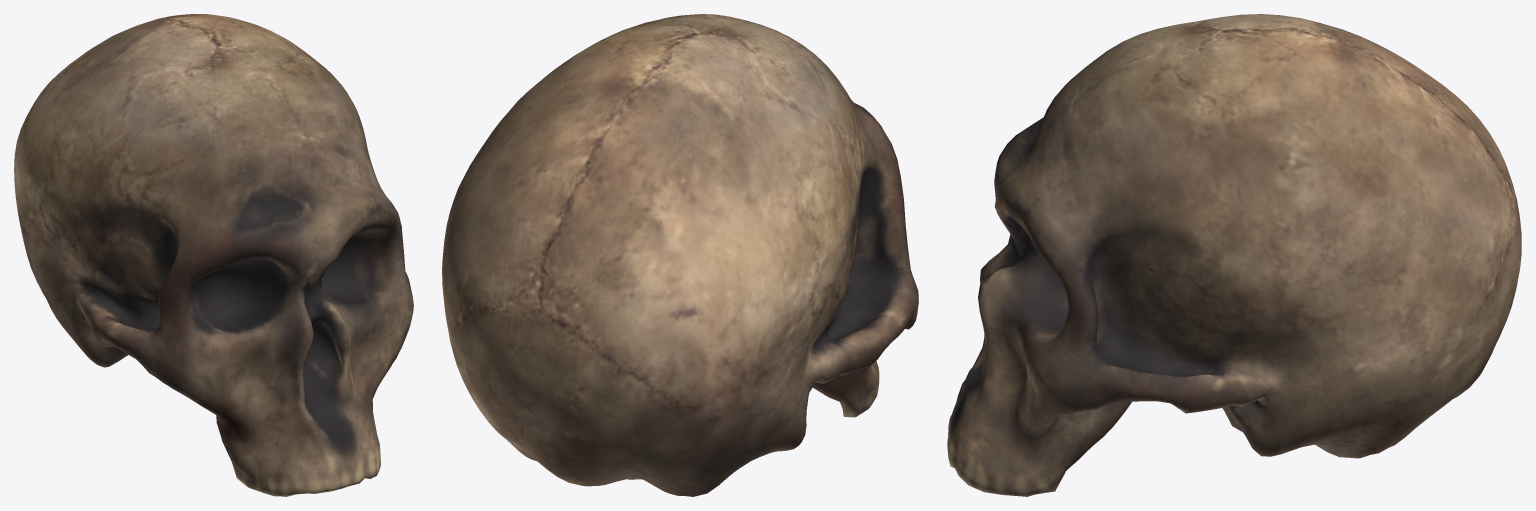
The model's file is Homo neanderthalensis cranium.glb.
3 views of the same model, side by side, from view 1: azimuth 30°, elevation 25°; view 2: azimuth 150°, elevation 25°; view 3: azimuth 270°, elevation 25° (orthographic). The views are drawn at different scales.
Visible parts, largest first — view 1: ZBrush_defualt_group; view 2: ZBrush_defualt_group; view 3: ZBrush_defualt_group.
Part boxes in pixels (bbox=[...]): ZBrush_defualt_group: bbox=[14, 14, 413, 496]; ZBrush_defualt_group: bbox=[442, 14, 918, 496]; ZBrush_defualt_group: bbox=[947, 14, 1521, 496].
Bounding box in the file's own units: 0.643 × 0.7772 × 0.9338.
Materials: 1 (1 with a texture image).
